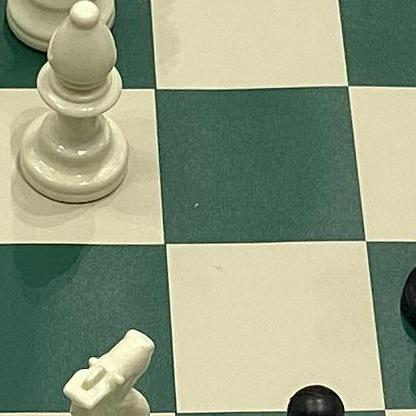black-pawn: (234, 366, 376, 416), (380, 169, 416, 357)
white-bishop: (6, 0, 137, 216)
white-knight: (31, 309, 173, 416)
white-rook: (0, 0, 126, 68)
